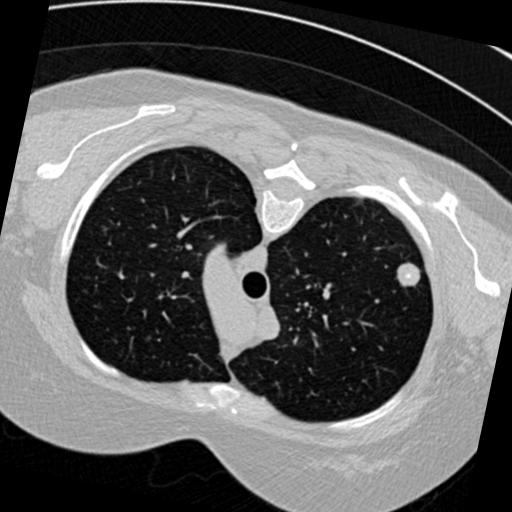nodule: (393, 259, 427, 293)
